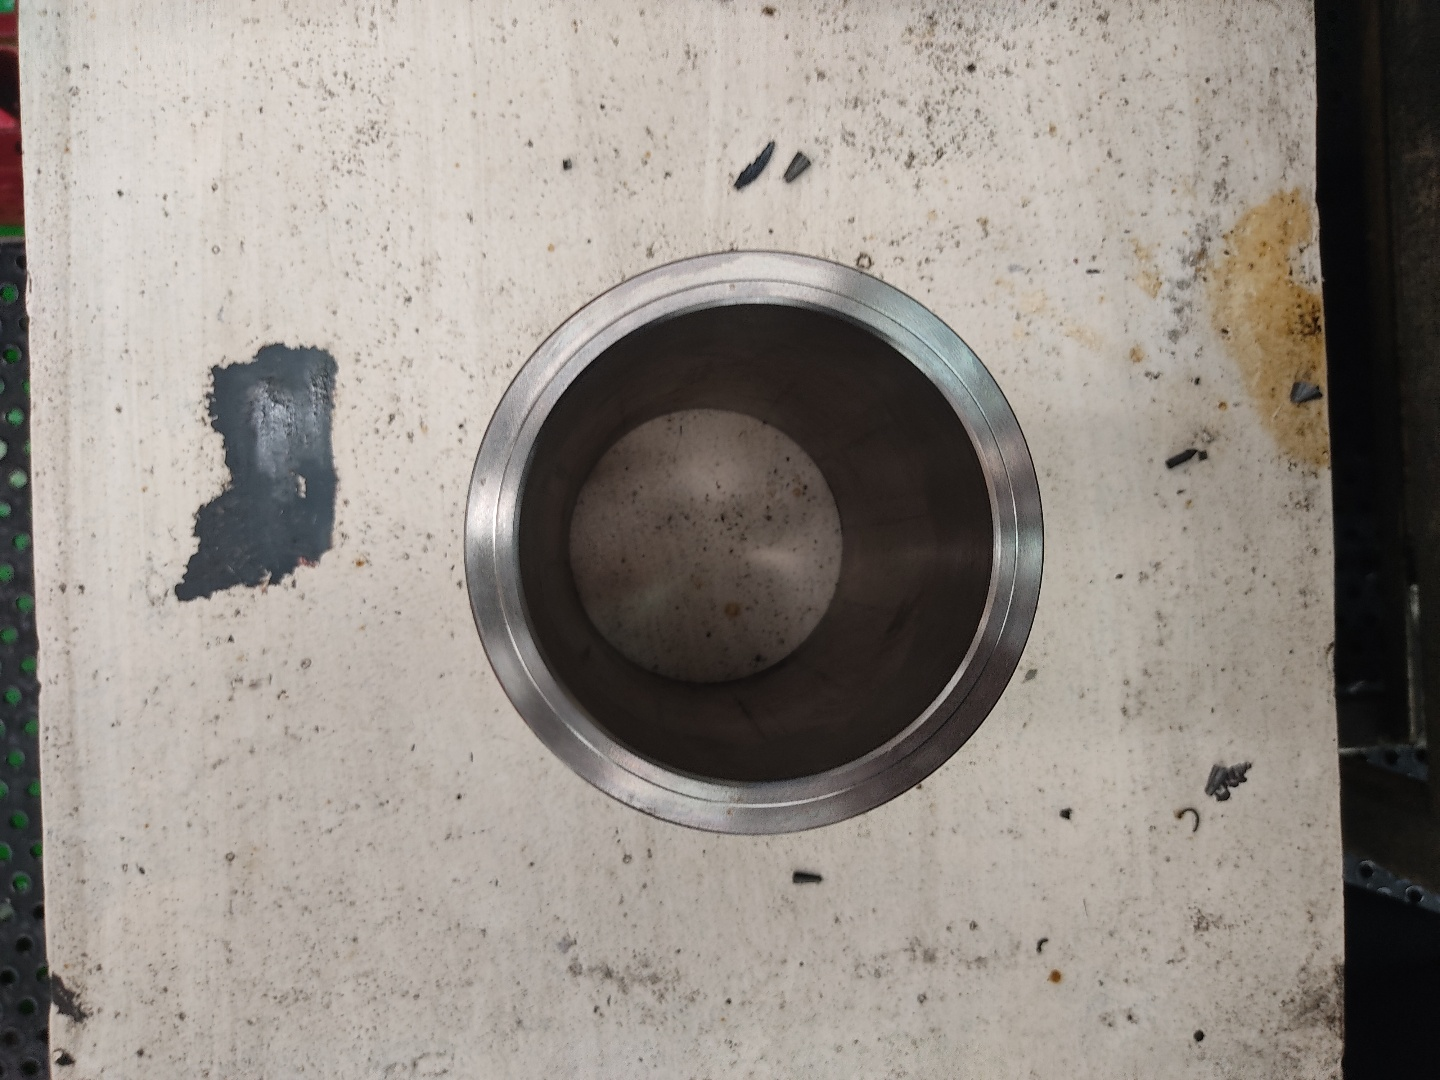cylinder: (458, 246, 1049, 839)
